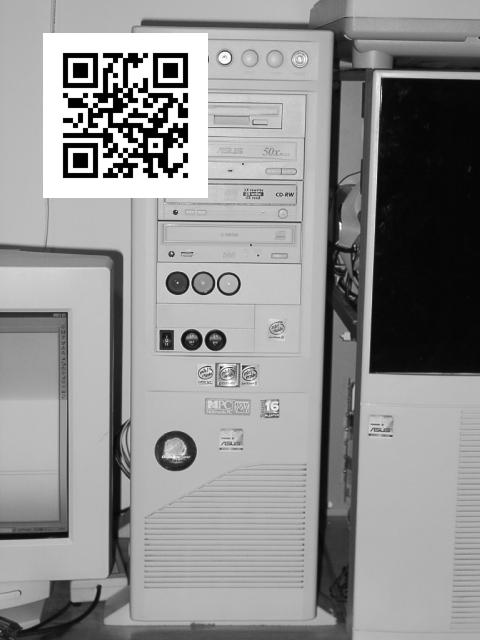qr_code: (42, 34, 206, 195)
